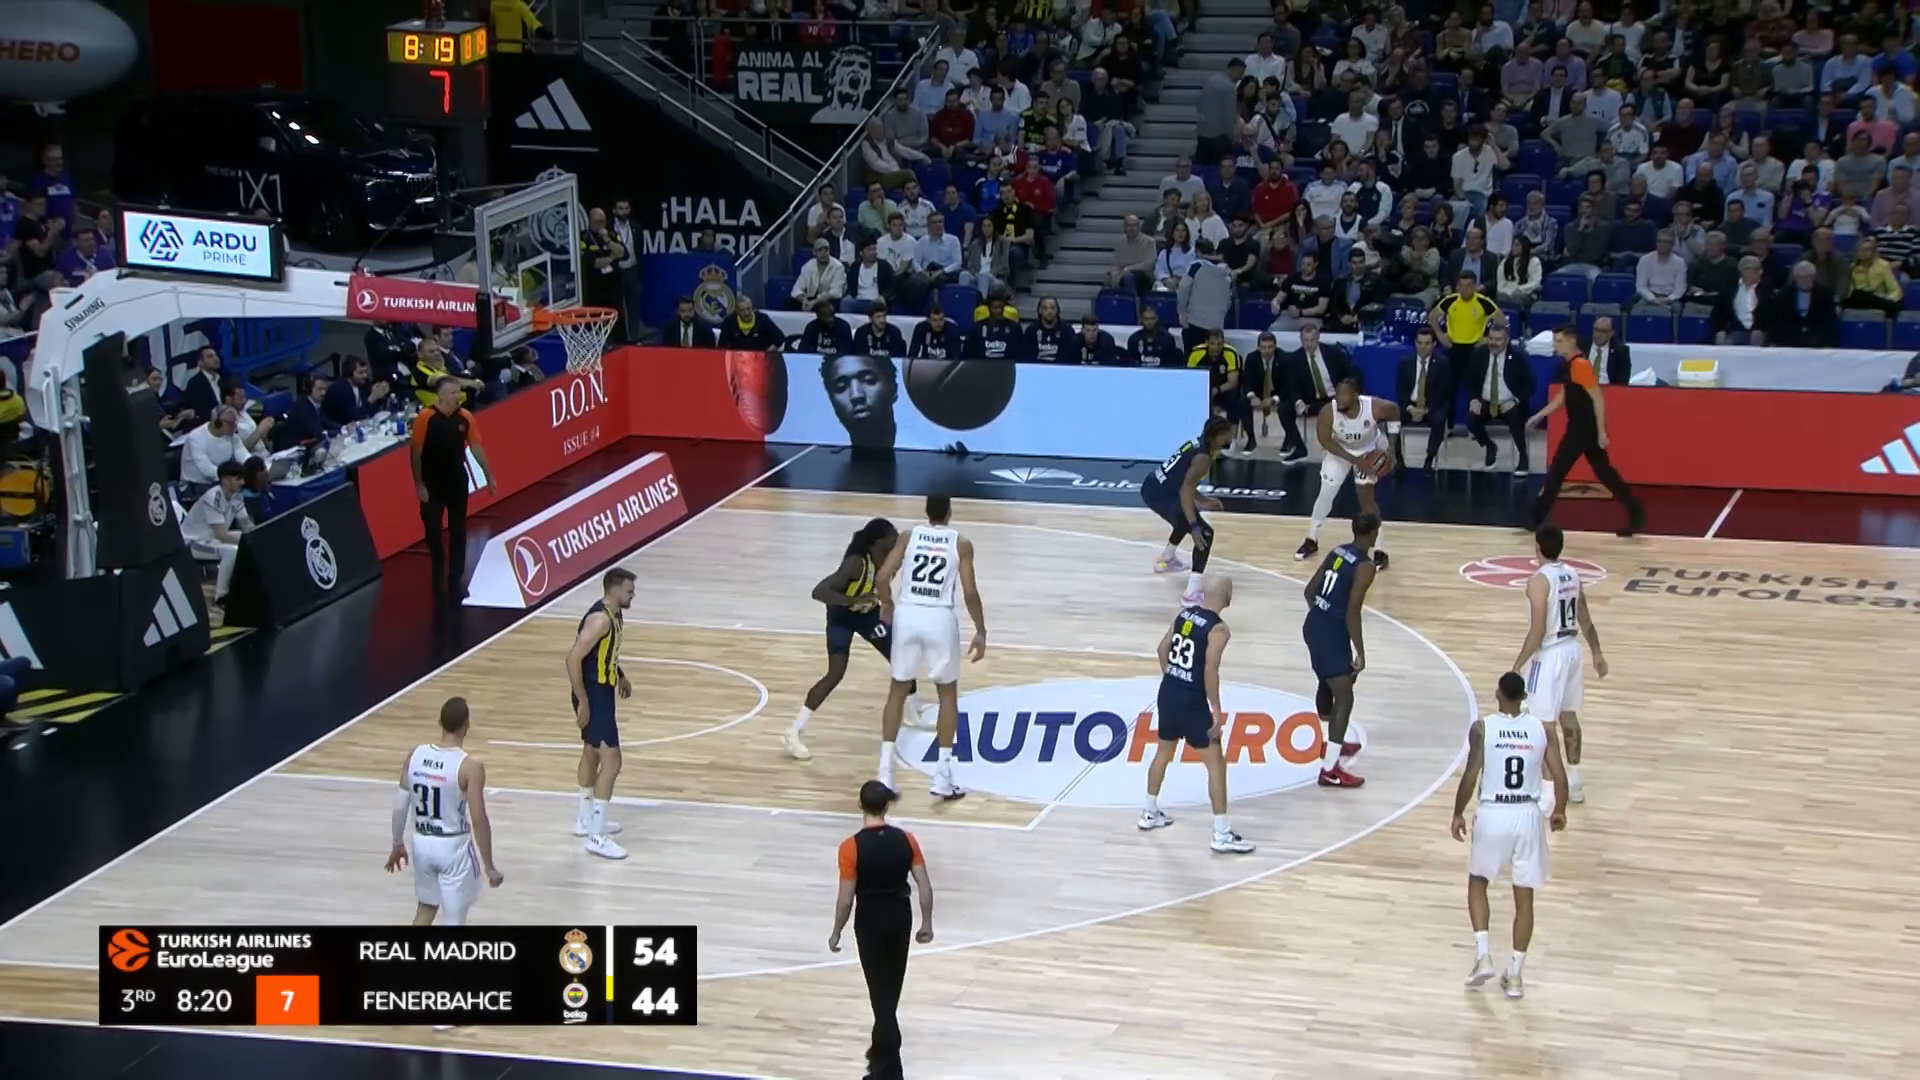ball: (1360, 446, 1395, 484)
net: (555, 305, 621, 376)
